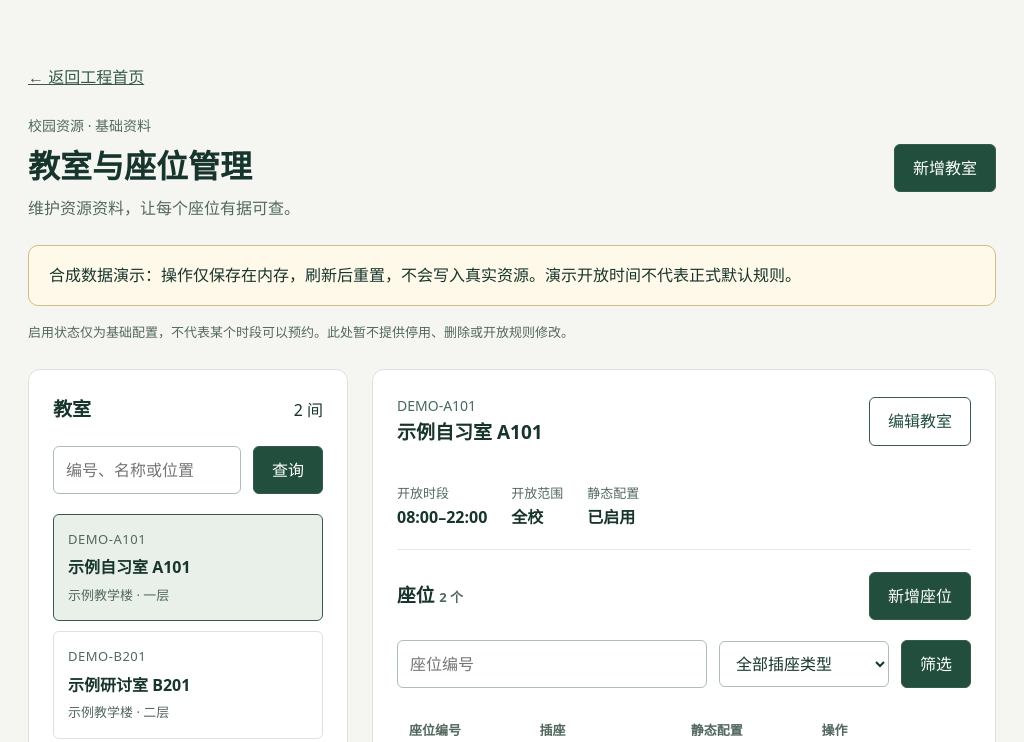
B resource workspace › edits room metadata using the original revision
This screenshot has width=1024, height=742.
Click the button "编辑教室".
click(920, 422)  # box [869, 397, 971, 446]
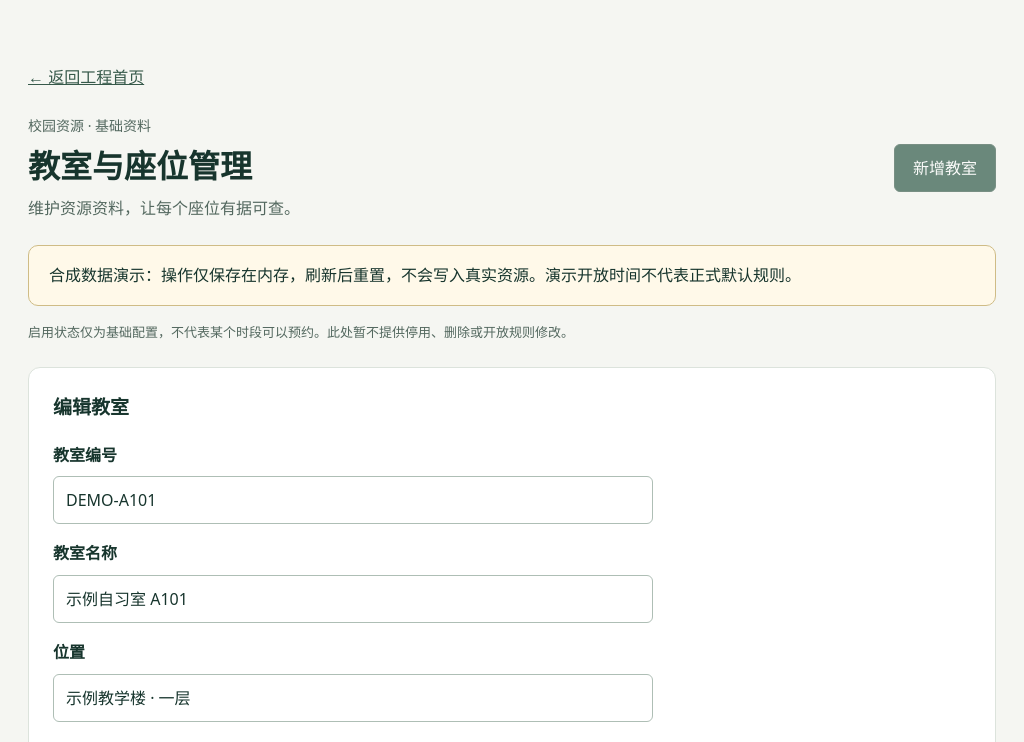
Replace the text in the field with id "room-name" with "修改后的名称" at point(353, 599), box [53, 575, 653, 623]
(page scrolled)
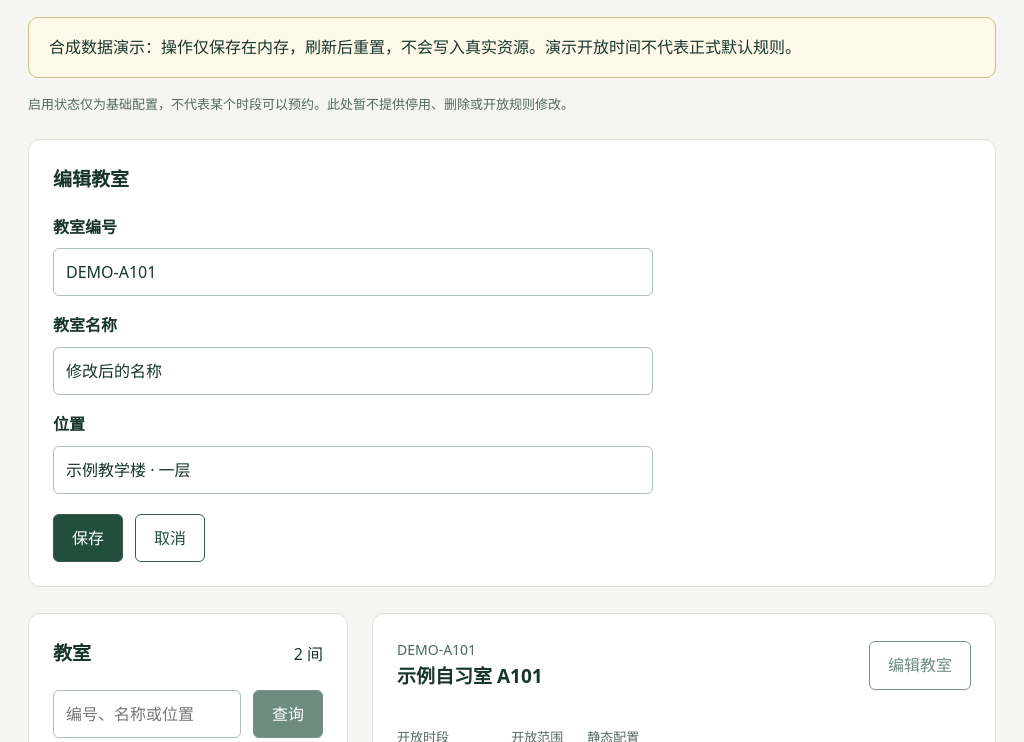
Submit the form "教室编号 教室名称 位置 保存 取消", box [53, 206, 653, 562]
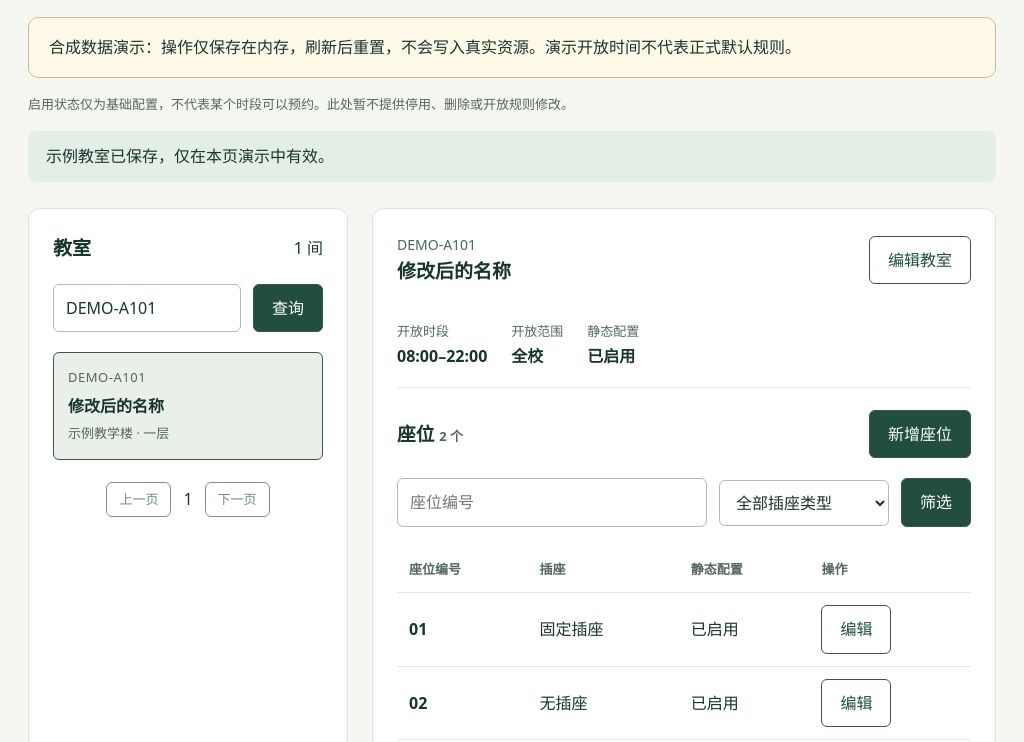
Now the heading with id "seat-list-title" reads "修改后的名称", box [397, 258, 511, 284]
